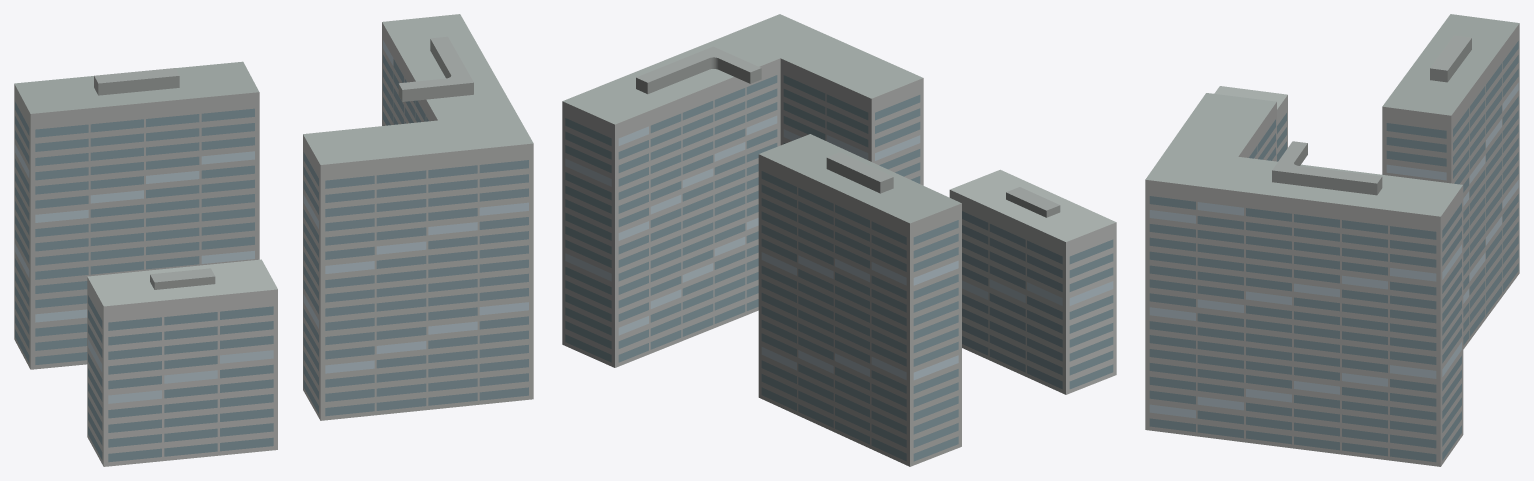
File: apt-a15288803.glb
3 renders of one model, left to right at view 1: azimuth 30°, elevation 25°; view 2: azimuth 150°, elevation 25°; view 3: azimuth 270°, elevation 25°, orthographic. The views are drawn at different scales.
Parts seen in each view (by area): view 1: apt-a15288803; view 2: apt-a15288803; view 3: apt-a15288803.
Boxes of the visible parts, x1=… form: apt-a15288803: x1=14, y1=14, x2=533, y2=466; apt-a15288803: x1=562, y1=14, x2=1116, y2=466; apt-a15288803: x1=1145, y1=14, x2=1519, y2=466.
Bounding box in the file's own units: 93.52 × 51 × 66.05.
